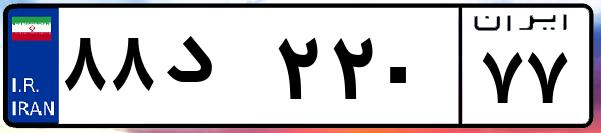0: (385, 28, 445, 110)
2: (270, 28, 330, 110), (330, 28, 385, 110)
7: (475, 38, 525, 113), (525, 38, 570, 115)
8: (57, 26, 110, 100), (110, 28, 158, 98)
د: (158, 20, 270, 120)
